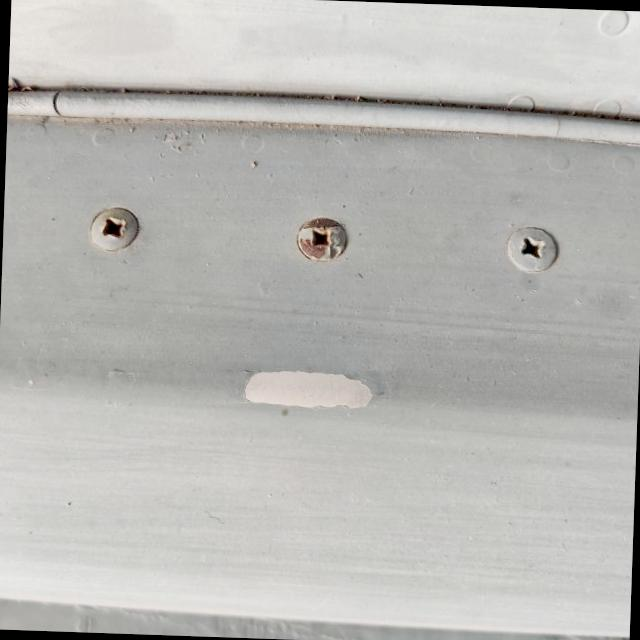paint-off: (214, 344, 396, 434)
